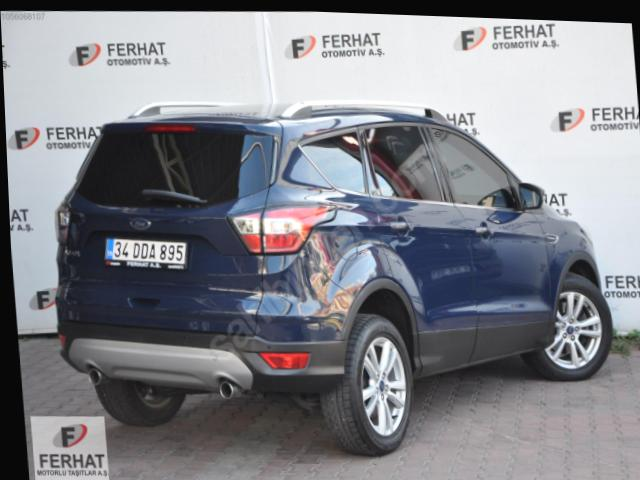plaka: (105, 238, 187, 269)
